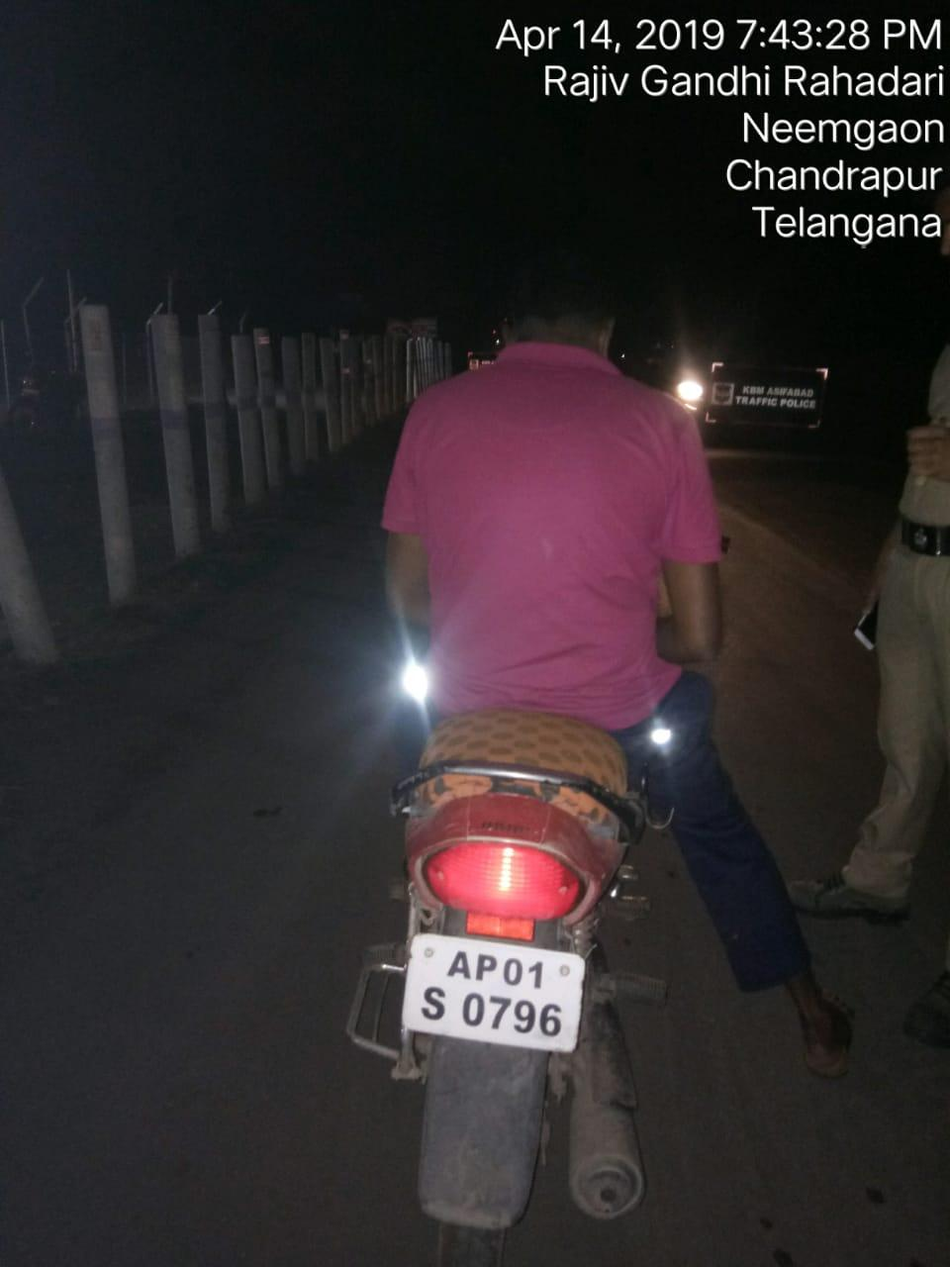plate: (387, 914, 611, 1085)
